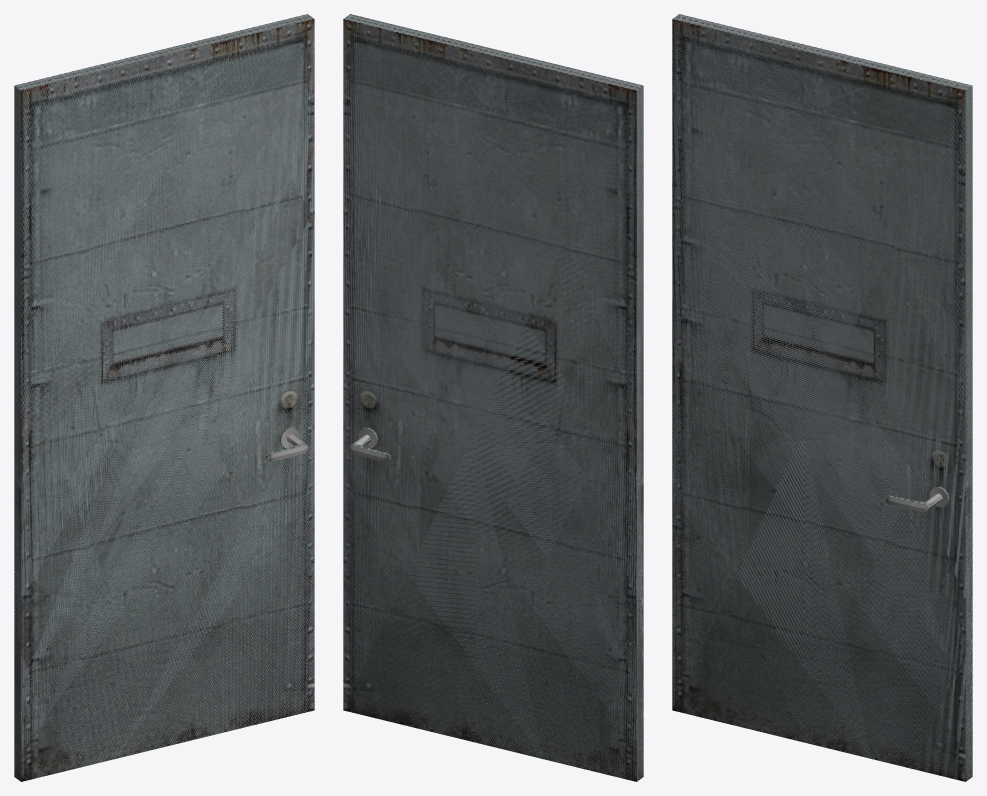
3 renders of one model, left to right at view 1: azimuth 30°, elevation 25°; view 2: azimuth 150°, elevation 25°; view 3: azimuth 330°, elevation 25°, orthographic.
Visible parts, largest first — view 1: skpB436 (×2); view 2: skpB436 (×2); view 3: skpB436 (×2).
Part boxes in pixels (<box>): skpB436 (×2): <box>14,14,314,781</box>; skpB436 (×2): <box>343,14,643,781</box>; skpB436 (×2): <box>672,14,972,781</box>.
Size of the model in its own units: 48.37 by 11.82 by 109.
Materials: 2 (1 with a texture image).
